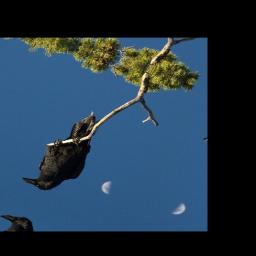Crow: (17, 100, 114, 198)
